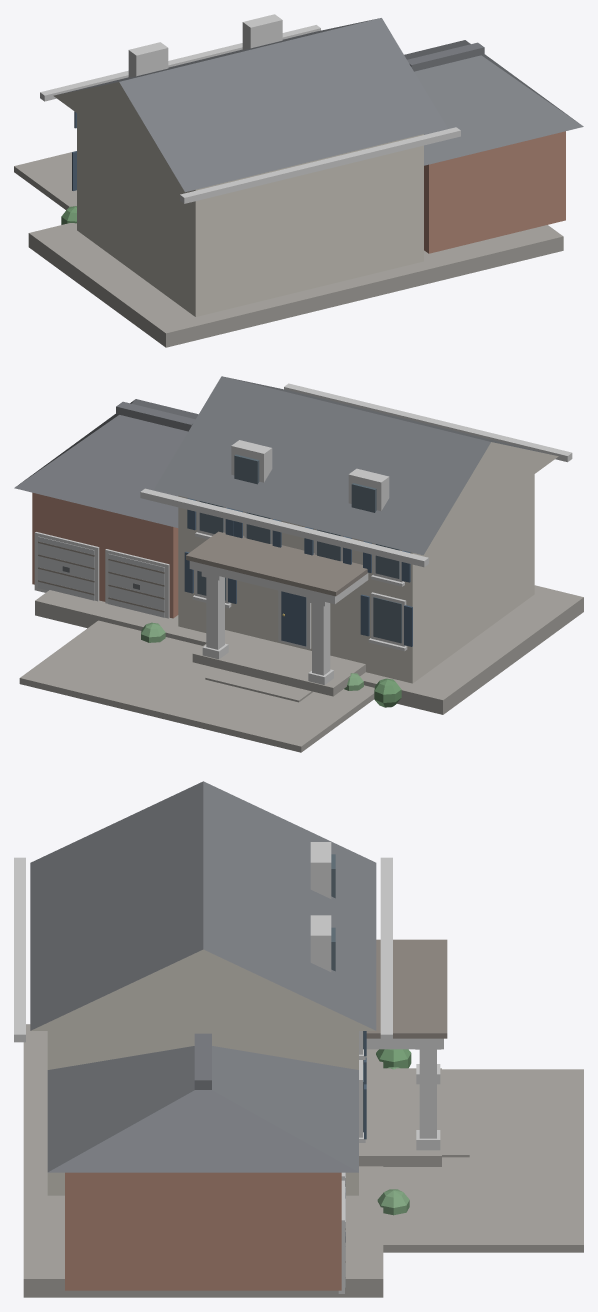
Rendered from mansion_suburban.glb.
3 views of the same model, one above another, from view 1: azimuth 30°, elevation 25°; view 2: azimuth 150°, elevation 25°; view 3: azimuth 270°, elevation 25° (orthographic). The views are drawn at different scales.
Parts seen in each view (by area): view 1: Mesh; view 2: Mesh; view 3: Mesh.
Boxes of the visible parts, x1=… form: Mesh: x1=14, y1=14, x2=583, y2=347; Mesh: x1=14, y1=376, x2=583, y2=752; Mesh: x1=14, y1=781, x2=583, y2=1297.
Bounding box in the file's own units: 18.7 × 8.85 × 16.47.
